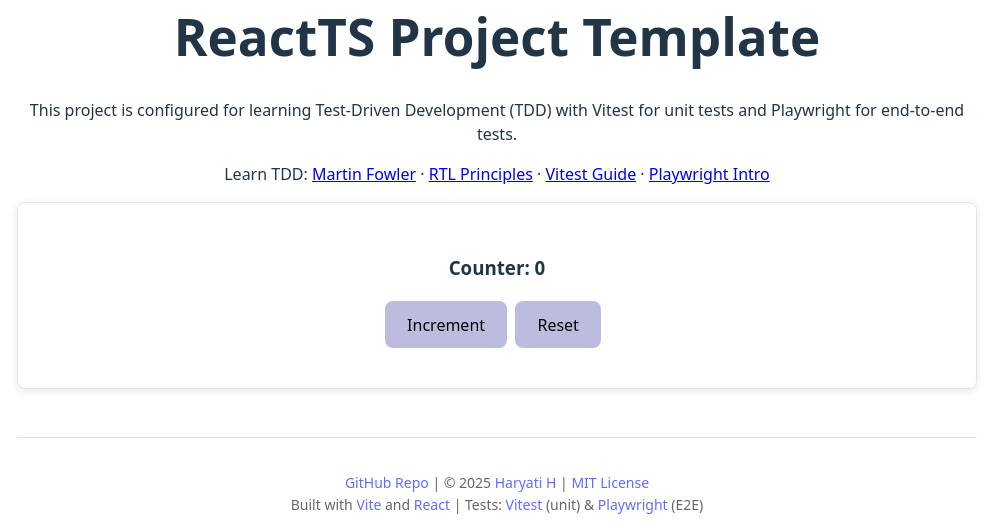
Test case: App component › User Interactions › handles multiple increments correctly
Click the button "Increment".
click(446, 324)  # box [385,301,507,348]
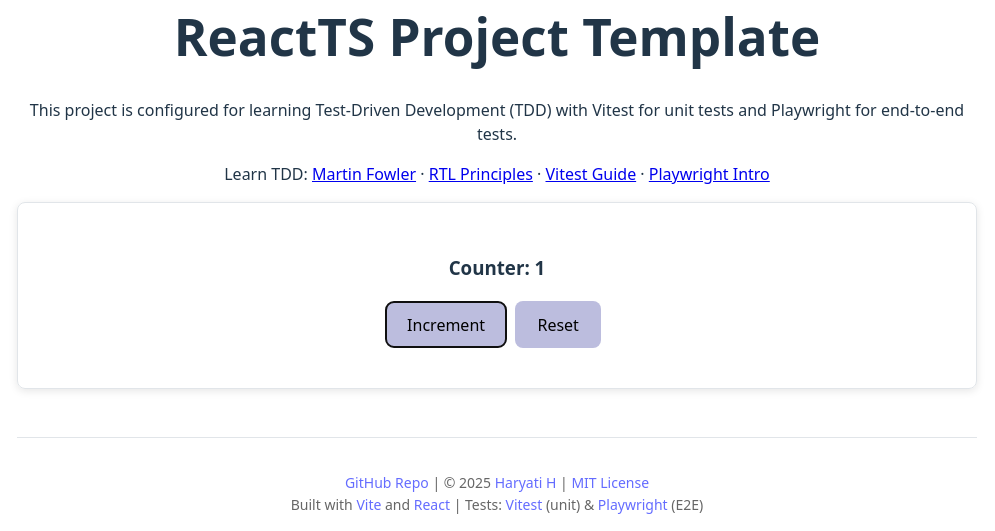
Click the button "Increment".
click(446, 324)  # box [385,301,507,348]
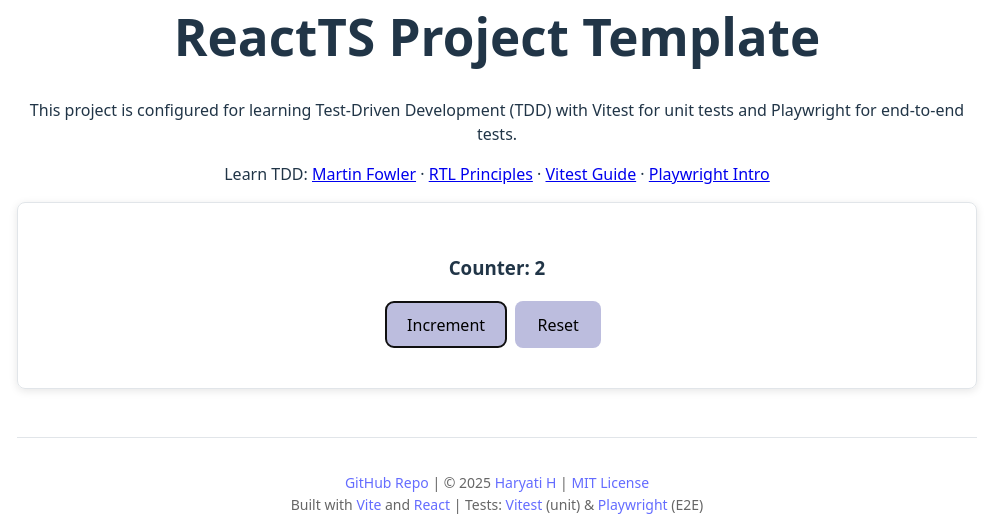
Click the button "Increment".
click(446, 324)  # box [385,301,507,348]
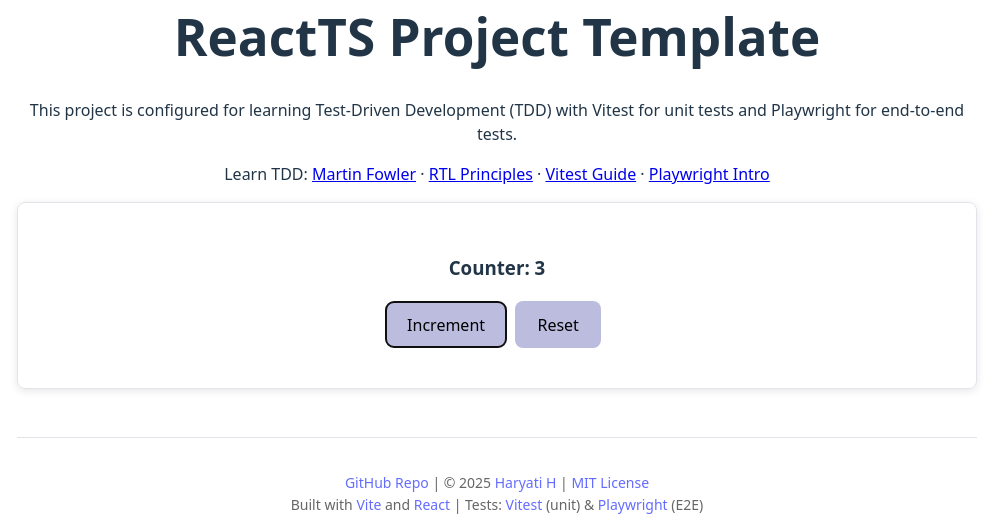
Now the heading "Counter: 3" is shown, box [449,255,545,280]
